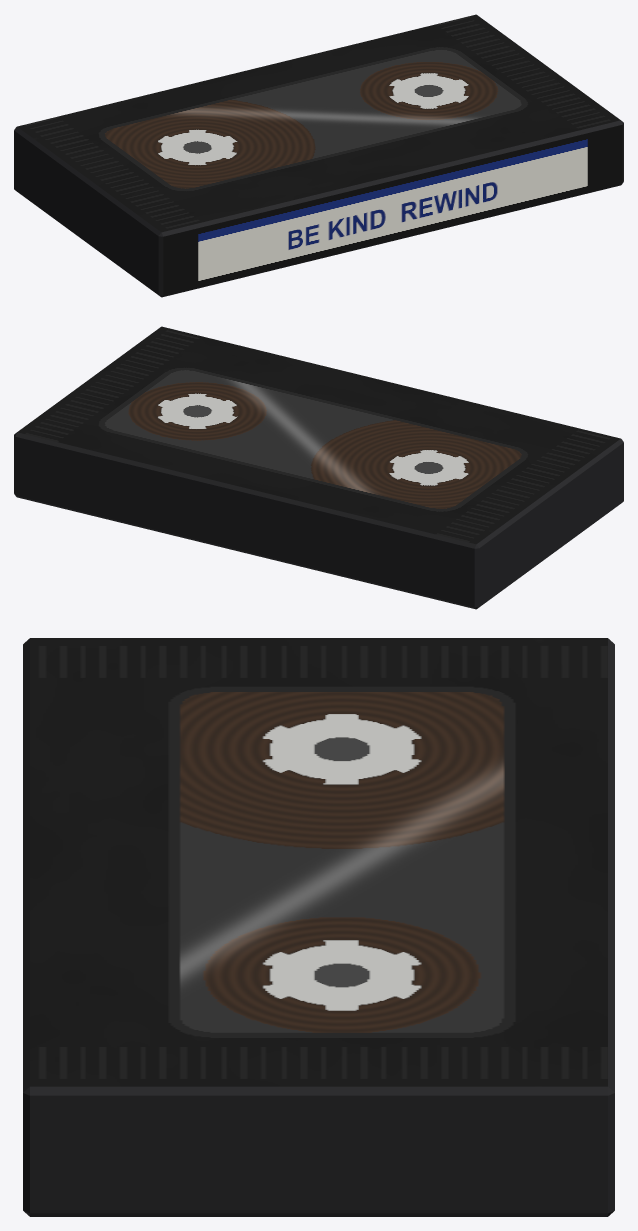
File: vhs_tape.glb
3 views of the same model, one above another, from view 1: azimuth 30°, elevation 25°; view 2: azimuth 150°, elevation 25°; view 3: azimuth 270°, elevation 25° (orthographic). The views are drawn at different scales.
Parts seen in each view (by area): view 1: vhs_tape; view 2: vhs_tape; view 3: vhs_tape.
Boxes of the visible parts, <box> form: vhs_tape: <box>14,14,623,297</box>; vhs_tape: <box>14,326,623,609</box>; vhs_tape: <box>23,638,614,1216</box>.
Bounding box in the file's own units: 0.187 × 0.025 × 0.103.
3 materials, 2 textured.
